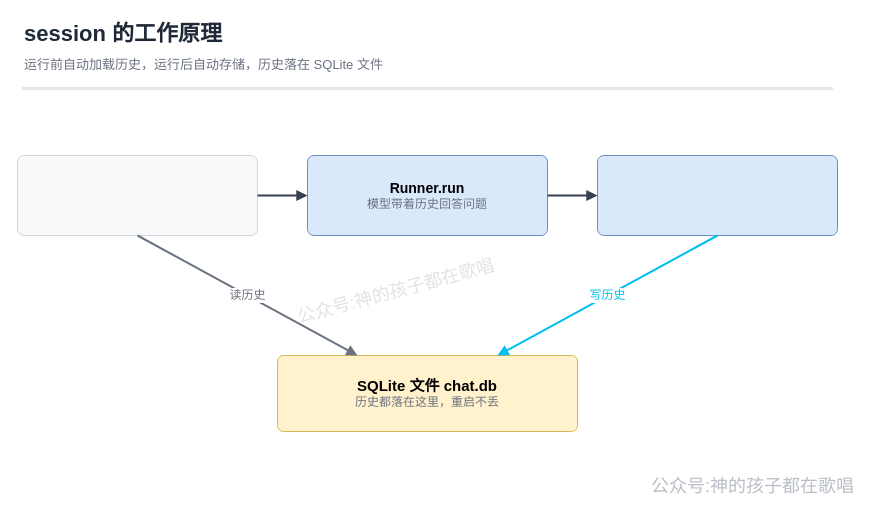
This 873x520 diagram has some shape labels left out. Each missing label, with the centre of its shape:
运行前 自动加载该会话的历史: point (137, 195)
运行后 自动存储这一轮的新条目: point (717, 195)
